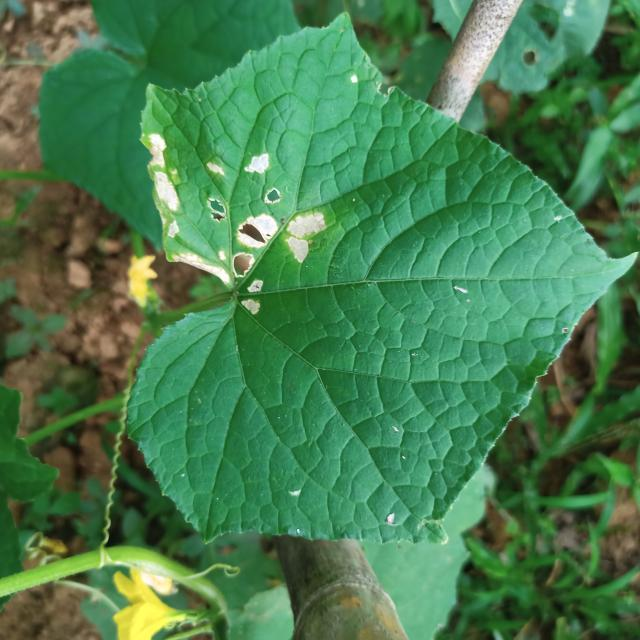disease_cucumber: (148, 133, 326, 317)
